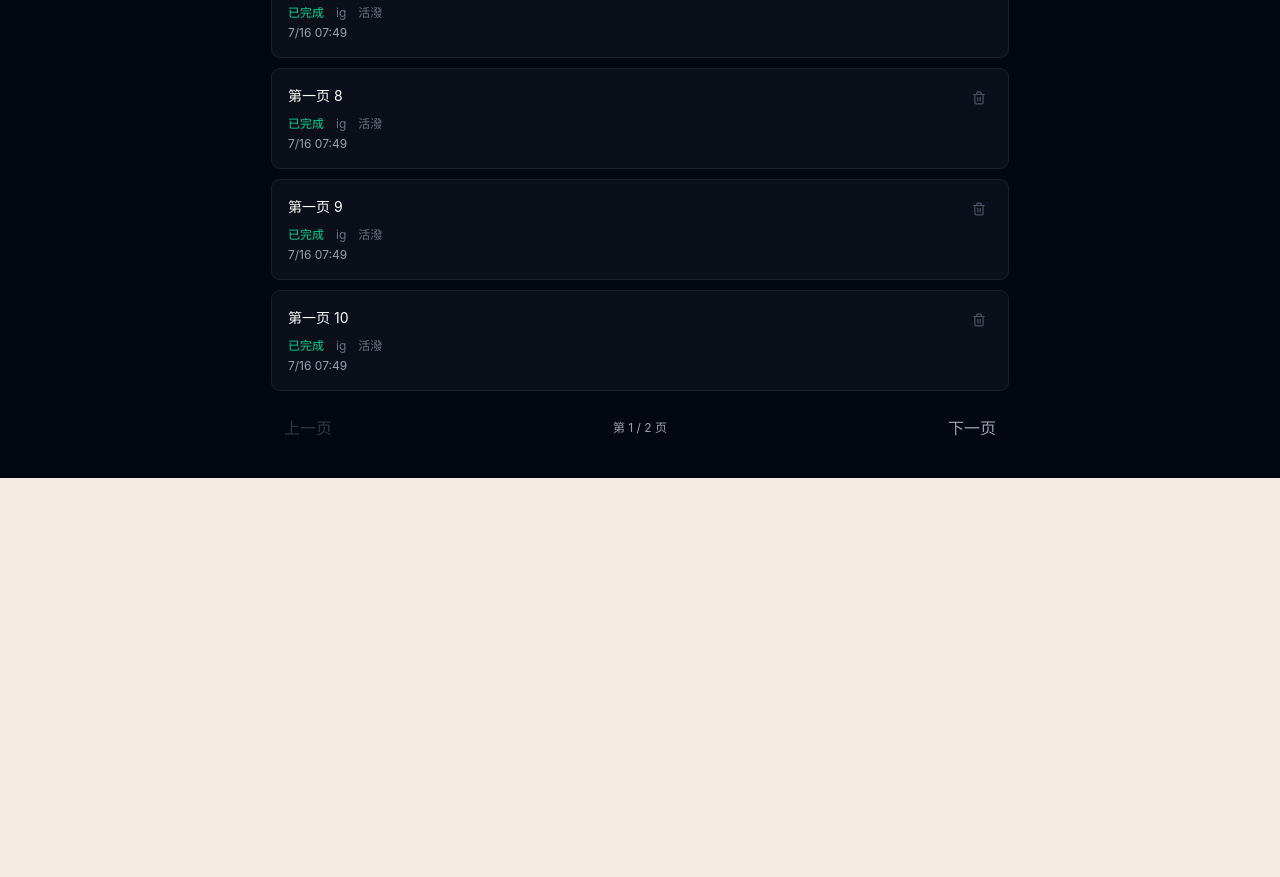
Test: HistoryPage — populated list › 依据服务端总数翻页
(page scrolled)
Expected: the text "第 1 / 2 页" is shown, [613, 420, 667, 436]
Click the button "下一页" at coordinates (972, 428), box [936, 410, 1008, 446]
(page scrolled)
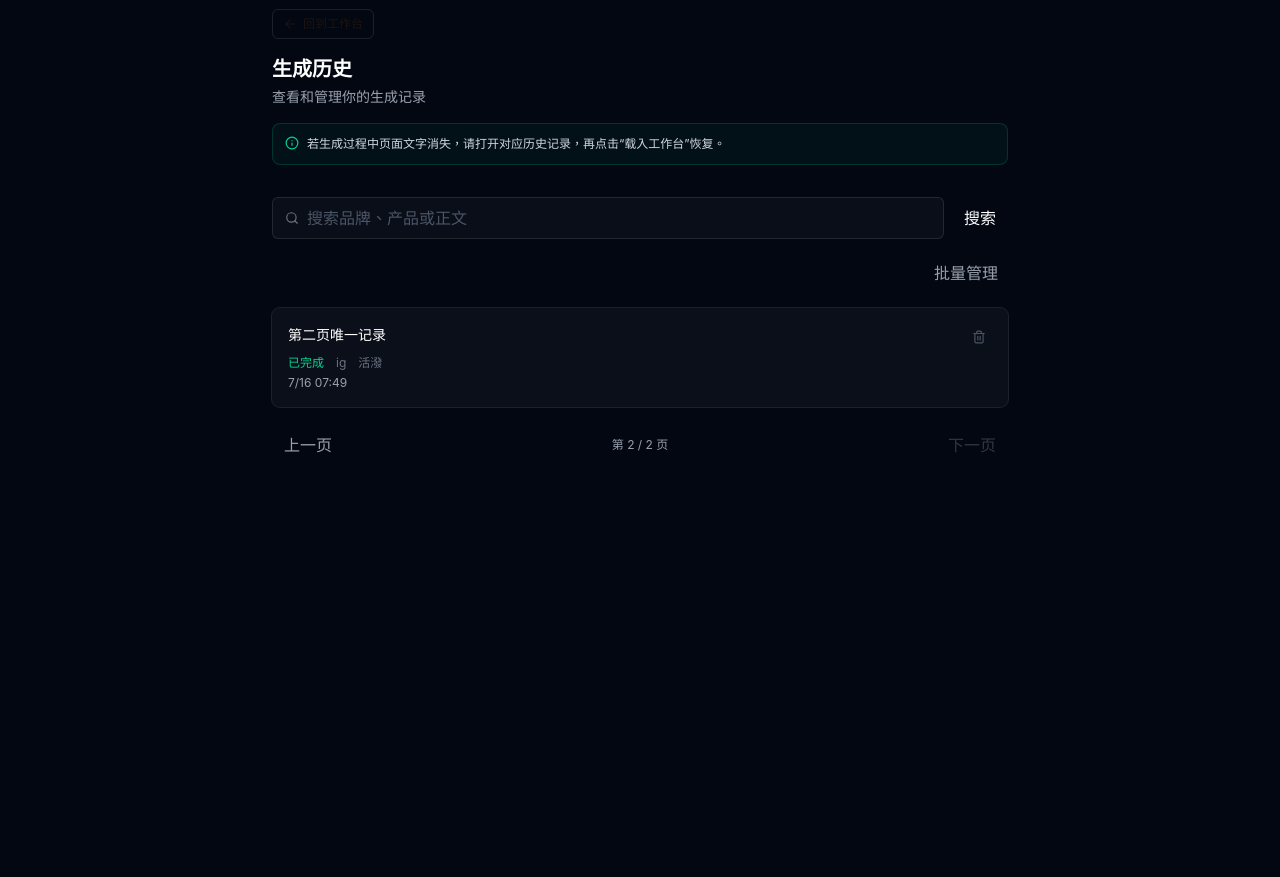
Now the text "第二页唯一记录" is shown, box [288, 326, 386, 343]
Now the text "第 2 / 2 页" is shown, box [612, 437, 668, 453]
